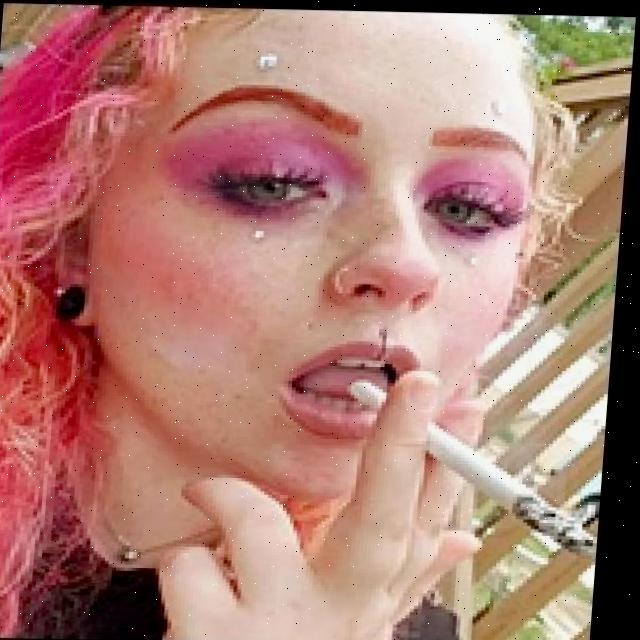cigarette: (344, 376, 611, 552)
